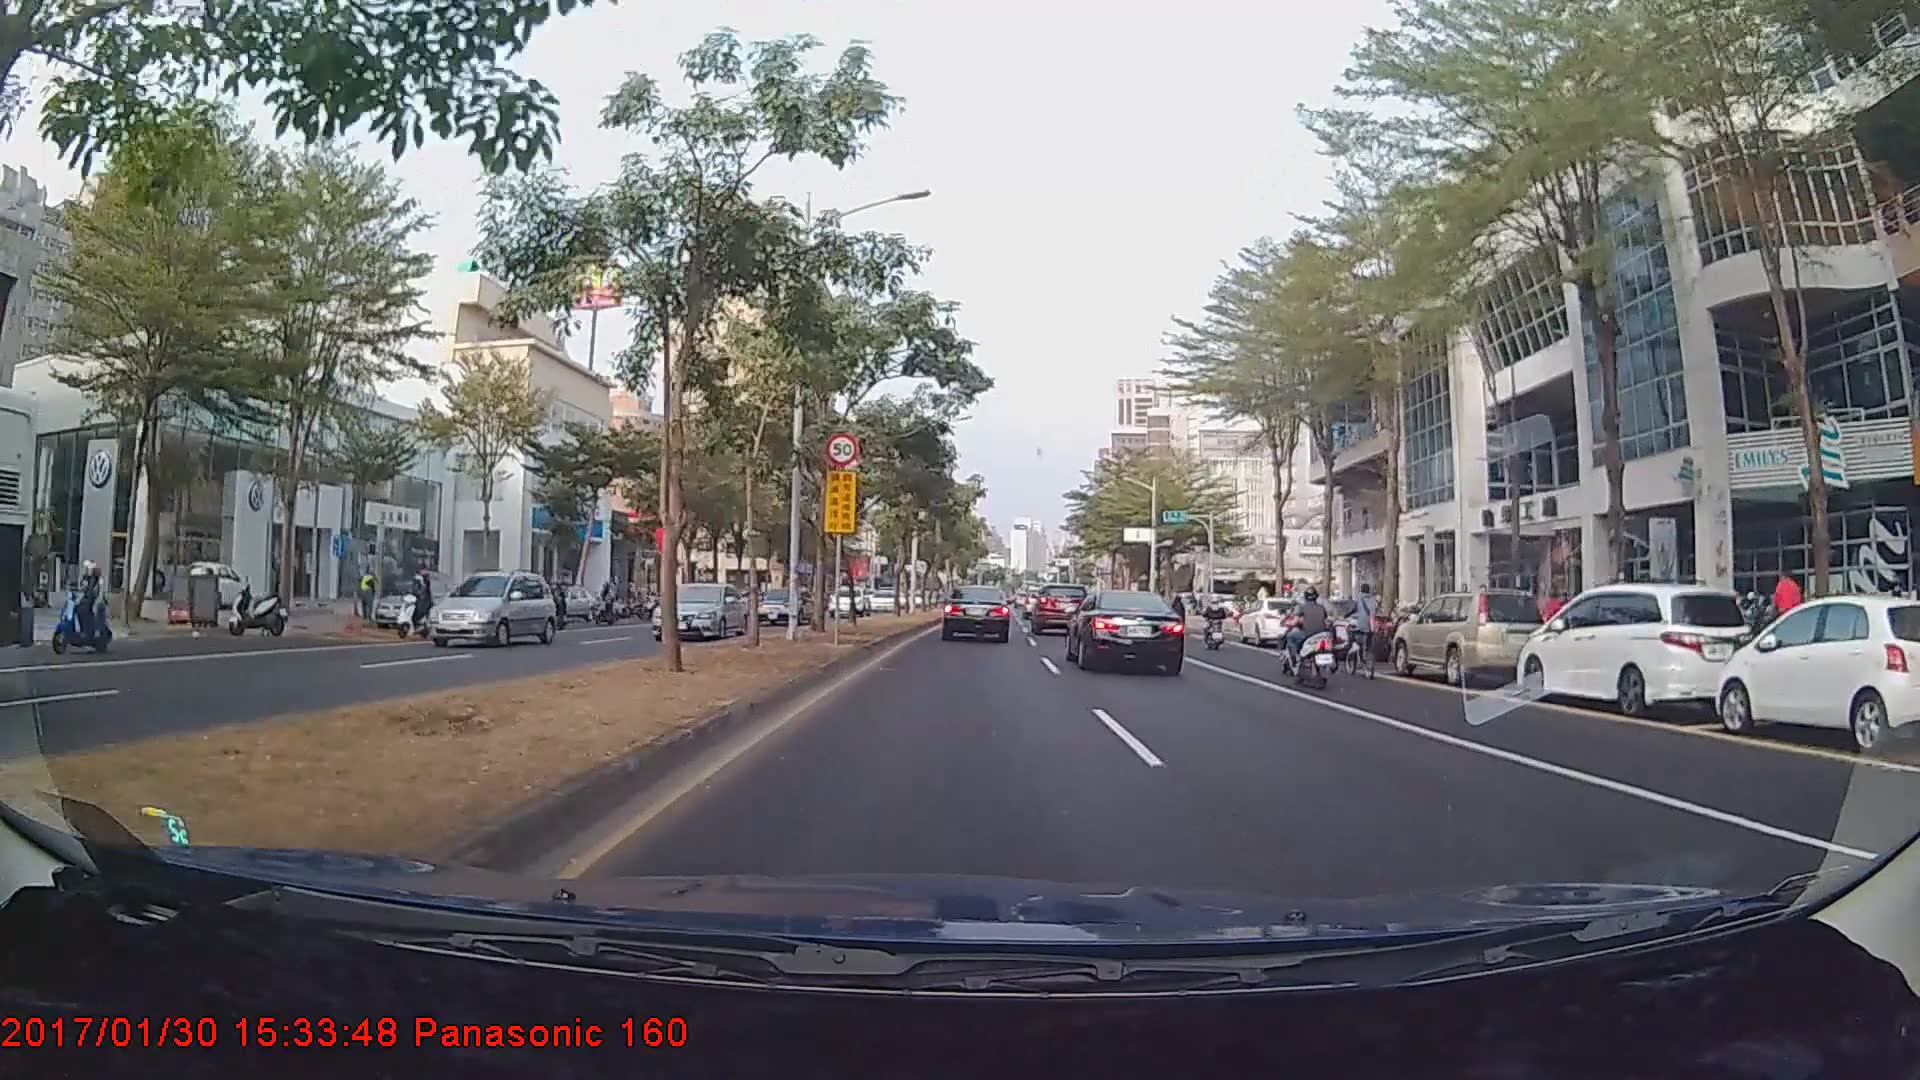rider: (1273, 582, 1348, 690), (47, 557, 115, 652), (1345, 580, 1386, 679), (393, 567, 438, 644), (1197, 594, 1231, 649)
vehicle: (1697, 593, 1920, 753), (1516, 581, 1755, 714), (1390, 591, 1546, 682), (423, 567, 561, 650), (1066, 586, 1186, 675), (1281, 598, 1387, 663), (647, 581, 746, 640), (939, 583, 1012, 643), (372, 581, 458, 629), (1242, 594, 1314, 648), (1028, 582, 1082, 634), (749, 586, 814, 625), (828, 585, 869, 616)
